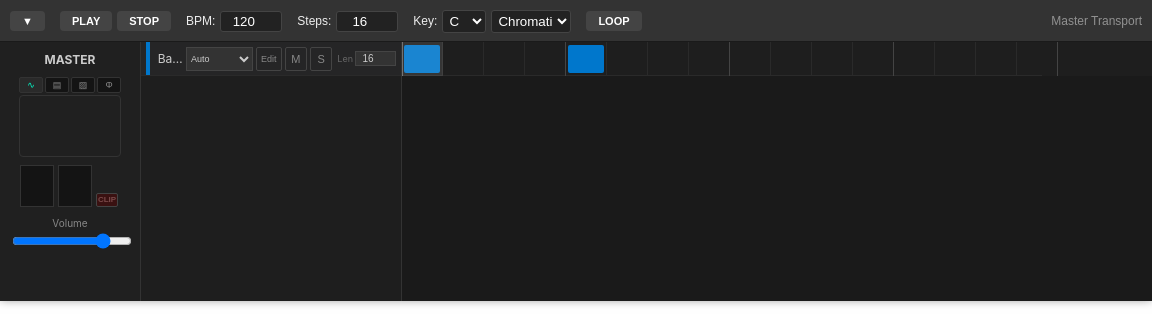
Test case: SequencerDock — which editor Edit opens › still opens the Piano Roll for a melodic track
The width and height of the screenshot is (1152, 323).
Step 1. Click the button with test id "track-edit-bass-track" → x=269, y=58, box [256,46,282,70]
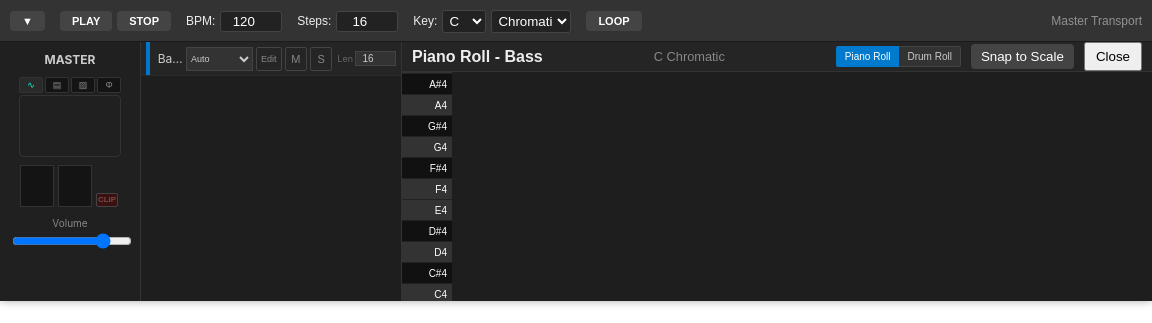
Expected: the element with test id "piano-roll-scroll-container" is shown, [402,72,1151,301]
